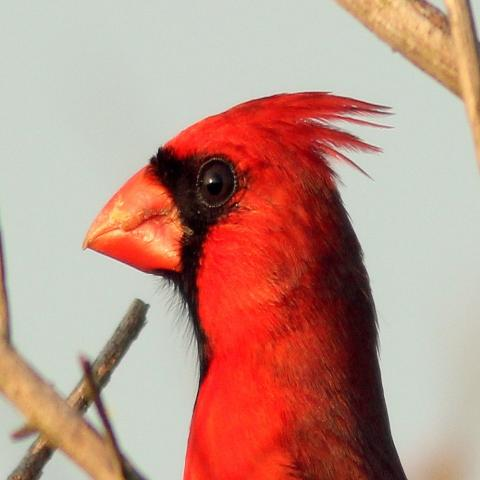bird: (81, 88, 409, 477)
